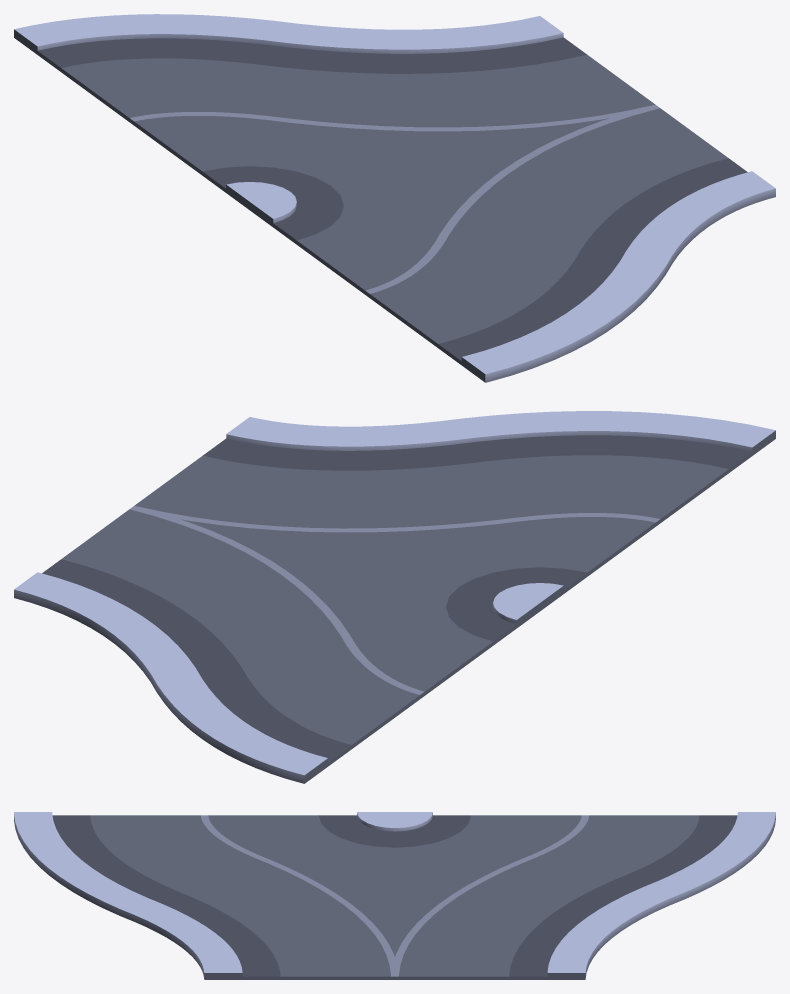
File: road-split.glb
3 renders of one model, top to bottom at view 1: azimuth 30°, elevation 25°; view 2: azimuth 150°, elevation 25°; view 3: azimuth 270°, elevation 25°, orthographic. The views are drawn at different scales.
Parts seen in each view (by area): view 1: road-split; view 2: road-split; view 3: road-split.
Part boxes in pixels (x1,y1,x2,y2): road-split: (14,14,775,382); road-split: (14,411,775,783); road-split: (14,812,775,979).
Bounding box in the file's own units: 1 × 0.02 × 2.
1 material, 1 textured.
